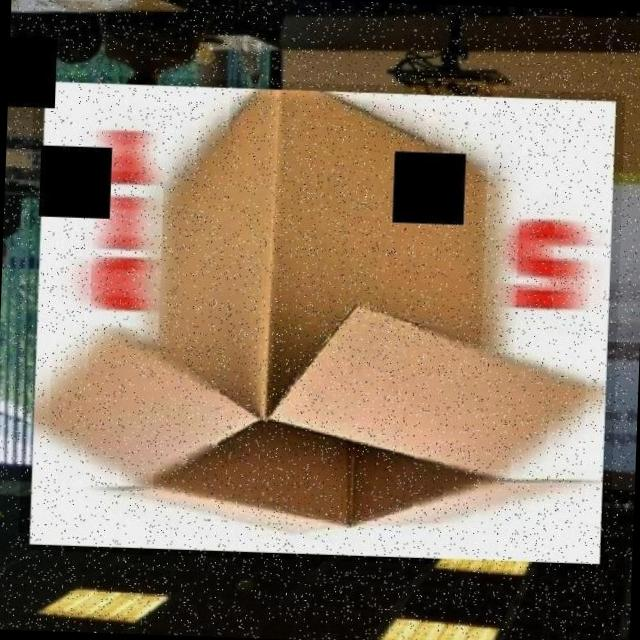box: (18, 72, 625, 570)
